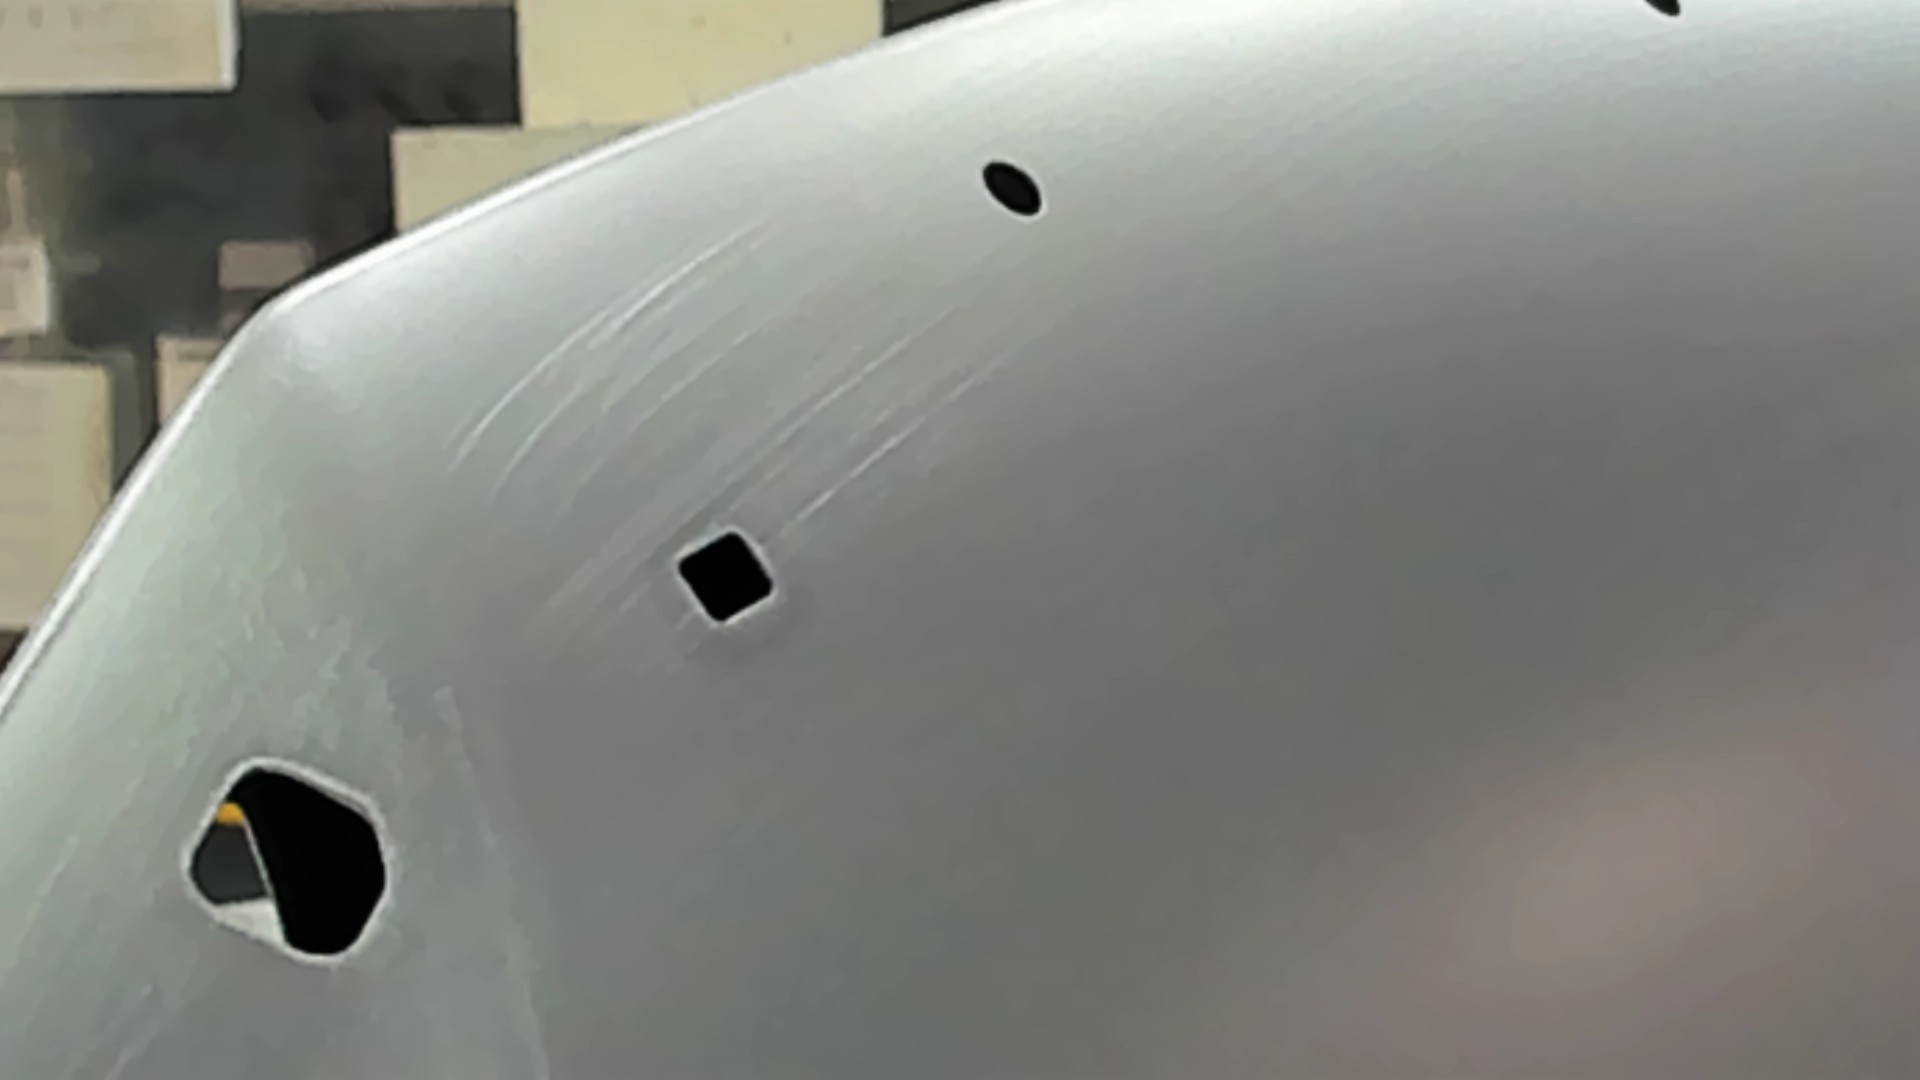chico: (978, 153, 1044, 222), (1638, 1, 1687, 22)
grande: (170, 752, 398, 968)
mediano: (669, 524, 783, 629)
